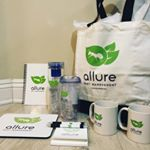cups: (117, 100, 150, 146), (87, 98, 121, 137)
